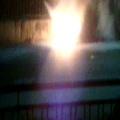fire: (50, 5, 81, 55)
